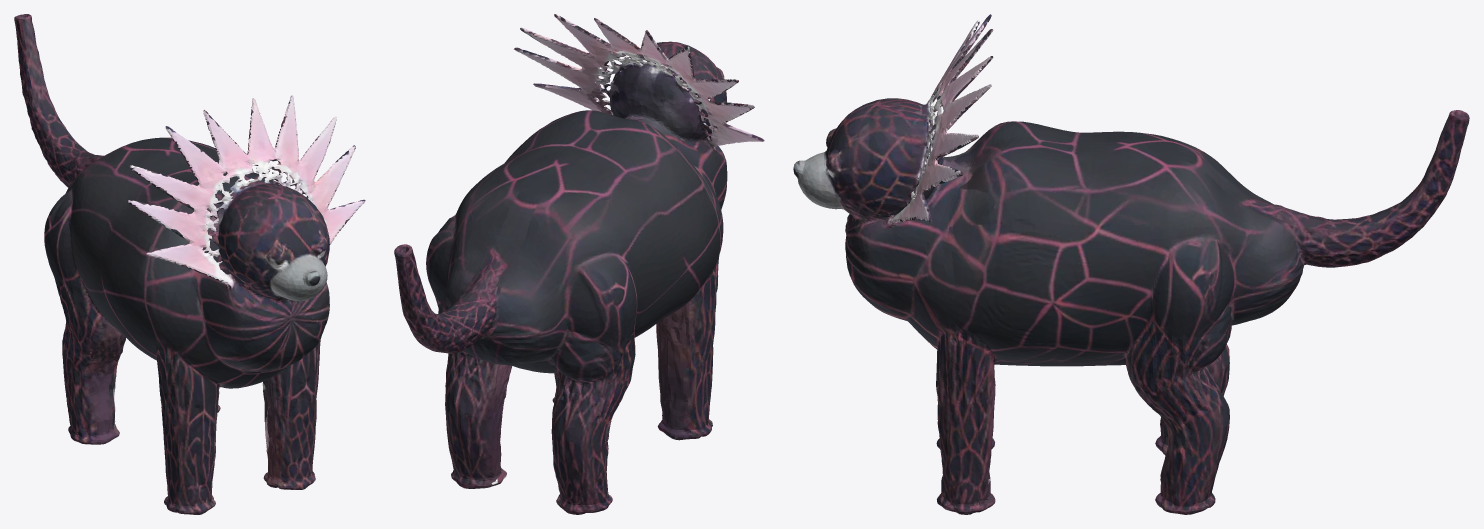
File: creature-023.glb
3 views of the same model, side by side, from view 1: azimuth 30°, elevation 25°; view 2: azimuth 150°, elevation 25°; view 3: azimuth 270°, elevation 25° (orthographic). The views are drawn at different scales.
Parts seen in each view (by area): view 1: tmpavkzcdsp.ply; view 2: tmpavkzcdsp.ply; view 3: tmpavkzcdsp.ply.
Part boxes in pixels (x1,y1,x2,y2): tmpavkzcdsp.ply: (14, 14, 365, 514); tmpavkzcdsp.ply: (394, 14, 764, 514); tmpavkzcdsp.ply: (793, 14, 1469, 514).
Size of the model in its own units: 0.8826 by 1.43 by 1.99.
1 material, 1 textured.
